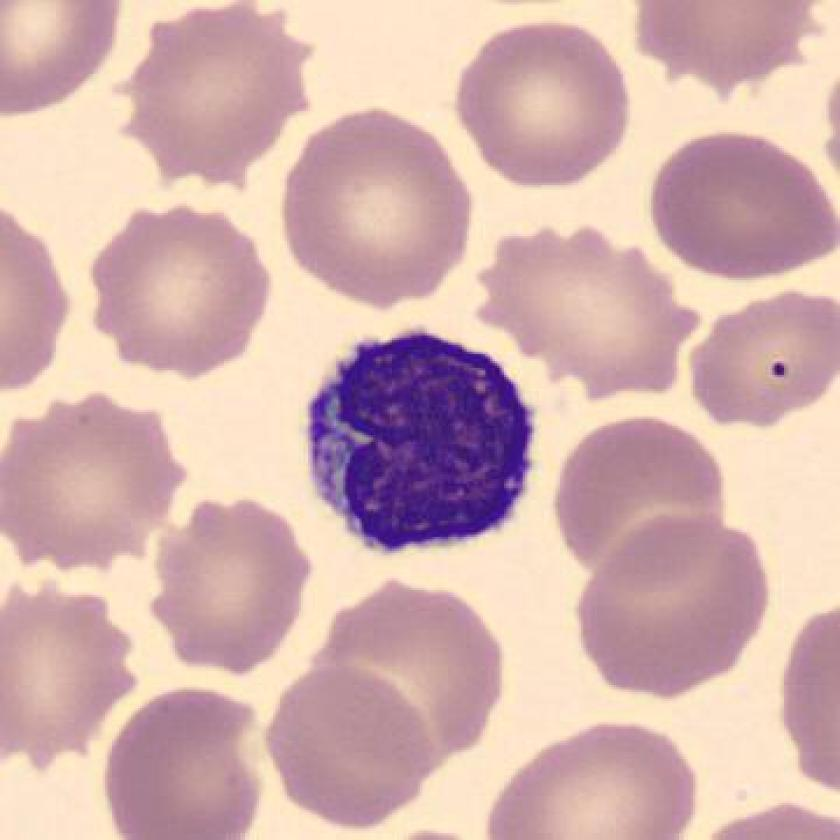lymphocyte: (286, 311, 561, 570)
